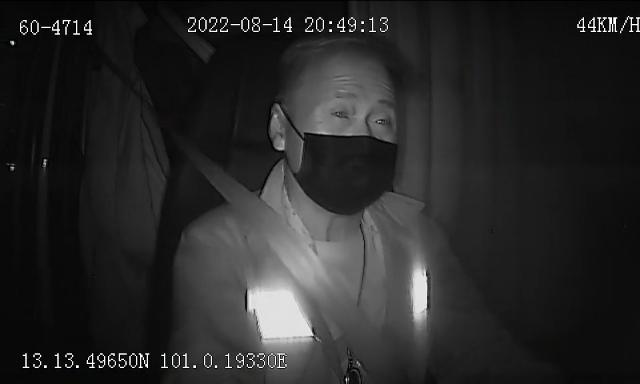SafeDriving: (366, 106, 401, 134), (323, 102, 358, 126)
Seatbelt: (182, 143, 388, 363)
